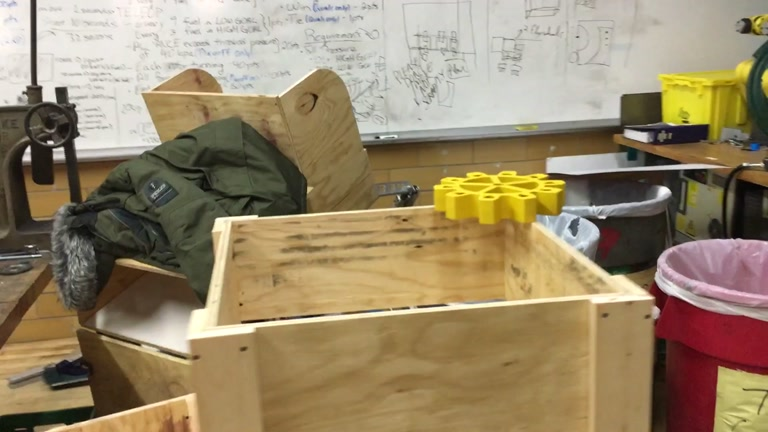gear: (434, 169, 566, 227)
